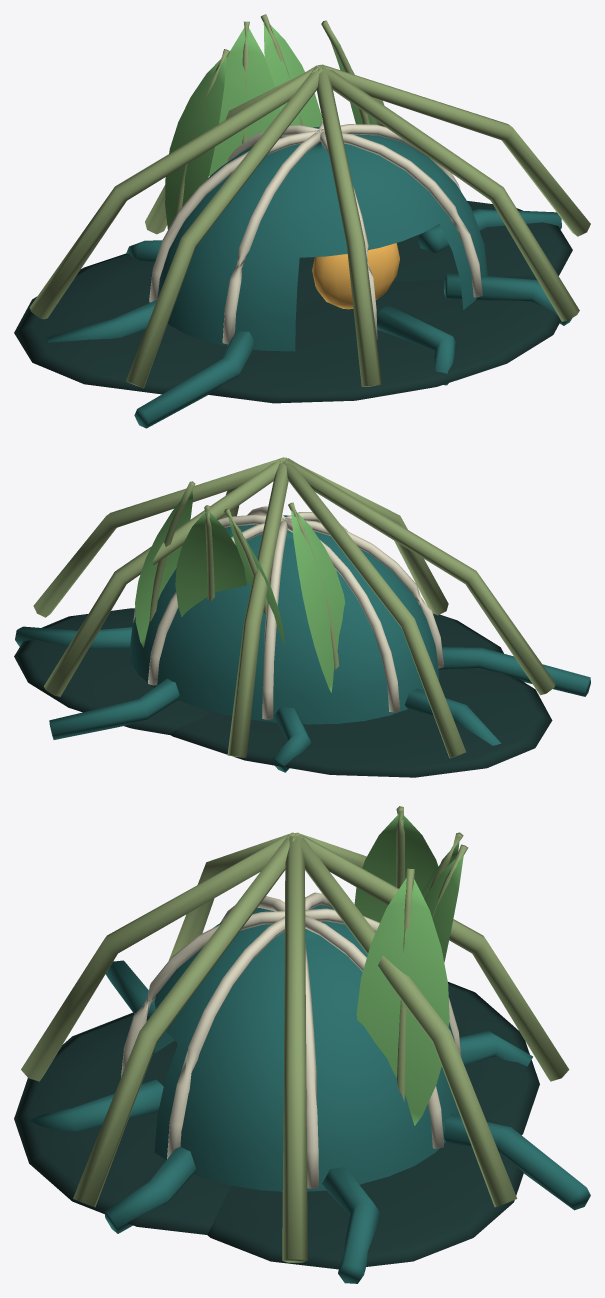
File: construction_growth_stage_2.obj
3 renders of one model, top to bottom at view 1: azimuth 30°, elevation 25°; view 2: azimuth 150°, elevation 25°; view 3: azimuth 270°, elevation 25°, orthographic. The views are drawn at different scales.
Visible parts, largest first — view 1: inhabited_shell.035, irregular_anchoring_lobe.131, irregular_anchoring_lobe.129, living_scaffold_rib.017, living_scaffold_rib.020, living_scaffold_rib.018, living_scaffold_rib.019, irregular_anchoring_lobe.130, living_scaffold_rib.014, bent_living_blade.225, bent_living_blade.226, anchoring_root.305 (+14 smaller); view 2: inhabited_shell.035, irregular_anchoring_lobe.129, irregular_anchoring_lobe.130, living_scaffold_rib.018, living_scaffold_rib.017, living_scaffold_rib.016, living_scaffold_rib.015, bent_living_blade.225, living_scaffold_rib.014, bent_living_blade.227, anchoring_root.302, anchoring_root.305 (+16 smaller); view 3: inhabited_shell.035, irregular_anchoring_lobe.130, irregular_anchoring_lobe.131, bent_living_blade.228, living_scaffold_rib.014, living_scaffold_rib.020, living_scaffold_rib.015, living_scaffold_rib.019, irregular_anchoring_lobe.129, living_scaffold_rib.016, anchoring_root.302, bent_living_blade.225 (+14 smaller).
Part boxes in pixels (box(x1,y1,x2,y2)): inhabited_shell.035: box(157, 127, 487, 351); irregular_anchoring_lobe.131: box(208, 276, 560, 403); irregular_anchoring_lobe.129: box(14, 253, 321, 394); living_scaffold_rib.017: box(29, 65, 318, 319); living_scaffold_rib.020: box(323, 66, 579, 321); living_scaffold_rib.018: box(126, 67, 322, 388); living_scaffold_rib.019: box(316, 68, 382, 386); irregular_anchoring_lobe.130: box(299, 201, 572, 281); living_scaffold_rib.014: box(321, 64, 590, 236); bent_living_blade.225: box(165, 56, 226, 229); bent_living_blade.226: box(209, 28, 280, 176); anchoring_root.305: box(134, 330, 255, 428); inhabited_shell.035: box(129, 515, 439, 724); irregular_anchoring_lobe.129: box(170, 668, 552, 777); irregular_anchoring_lobe.130: box(14, 608, 212, 735); living_scaffold_rib.018: box(287, 458, 555, 695); living_scaffold_rib.017: box(282, 459, 465, 758); living_scaffold_rib.016: box(227, 461, 288, 757); living_scaffold_rib.015: box(44, 458, 282, 696); bent_living_blade.225: box(291, 509, 345, 692); living_scaffold_rib.014: box(33, 457, 283, 617); bent_living_blade.227: box(175, 511, 246, 616); anchoring_root.302: box(49, 678, 179, 739); anchoring_root.305: box(438, 647, 590, 696); inhabited_shell.035: box(154, 904, 460, 1191); irregular_anchoring_lobe.130: box(207, 1119, 523, 1269); irregular_anchoring_lobe.131: box(14, 1012, 230, 1234); bent_living_blade.228: box(356, 878, 449, 1125); living_scaffold_rib.014: box(282, 836, 307, 1262); living_scaffold_rib.020: box(73, 835, 295, 1207); living_scaffold_rib.015: box(294, 835, 517, 1206); living_scaffold_rib.019: box(21, 833, 291, 1081); irregular_anchoring_lobe.129: box(448, 982, 539, 1135); living_scaffold_rib.016: box(298, 833, 569, 1081); anchoring_root.302: box(444, 1114, 590, 1210); bent_living_blade.225: box(354, 814, 438, 922).
Size of the model in its own units: 3.25 by 1.42 by 2.46.
